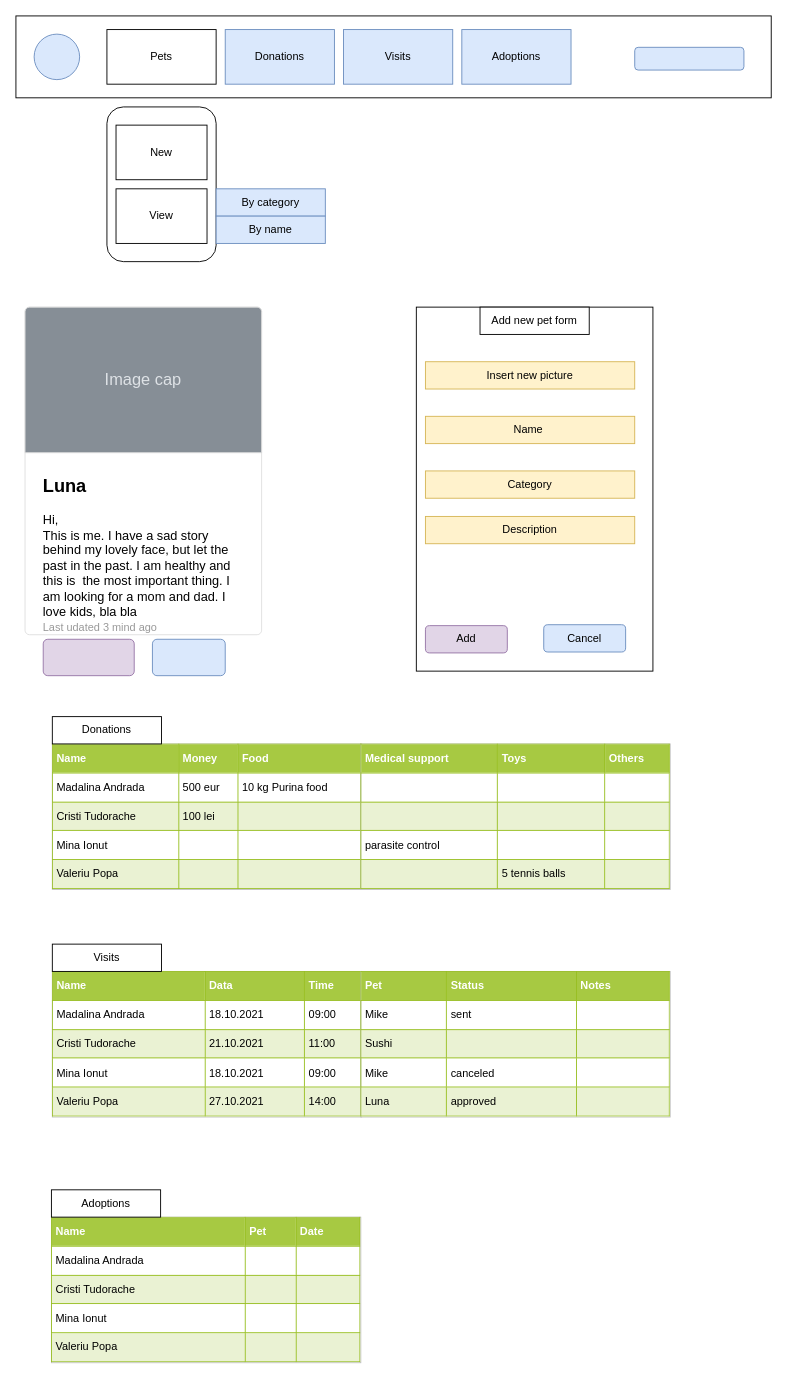
Some shapes in this 787 by 1379 pixel diagram are drawn without their labels. Each missing label, with the centre of its shape:
DELETE: pixel 188 657
logo: pixel 56 56
Logout: pixel 689 58
UPDATE: pixel 88 657
